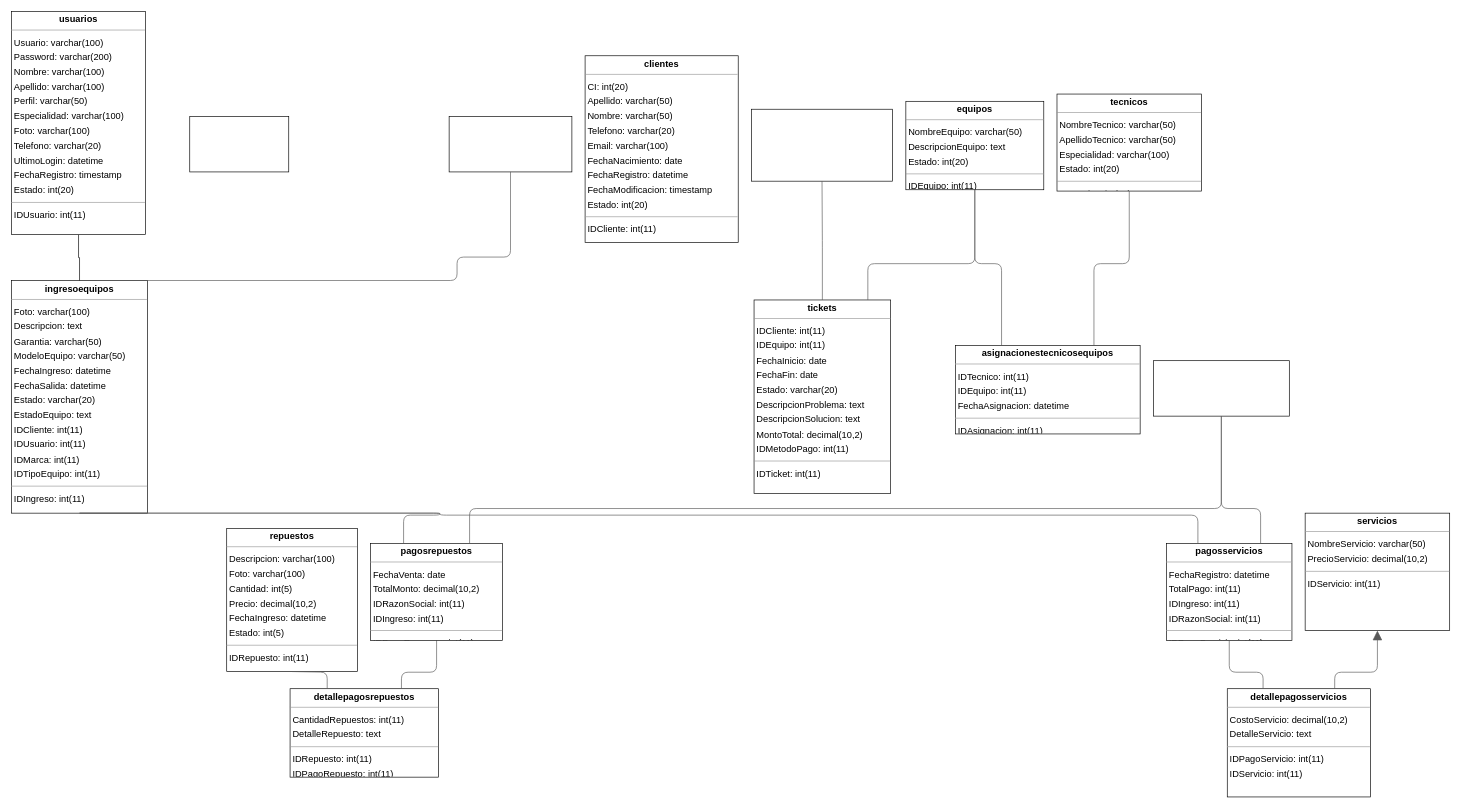
Some shapes in this 1461 by 809 pixel diagram are drawn without their labels. The box of each missing label's shape, as (x1, y1, x2, y2) in pixels:
marcas Marca: varchar(50) IDMarca: int(11): (189, 116, 289, 172)
metodospago NombreMetodo: varchar(50) Estado: int(20) IDMetodoPago: int(11): (751, 109, 893, 181)
razonessociales DetalleRazon: varchar(100) IDRazonSocial: int(11): (1153, 360, 1289, 416)
tipoequipo TipoEquipo: varchar(50) IDTipoEquipo: int(11): (448, 116, 572, 172)
